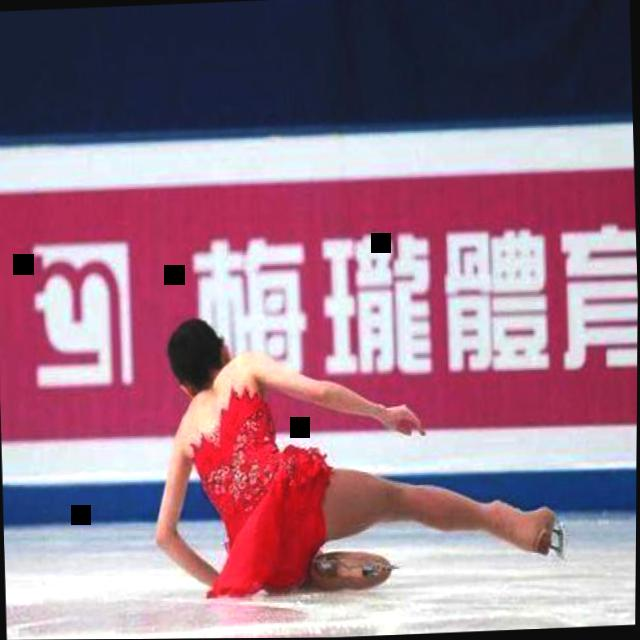Fall-Detected: (136, 278, 578, 623)
